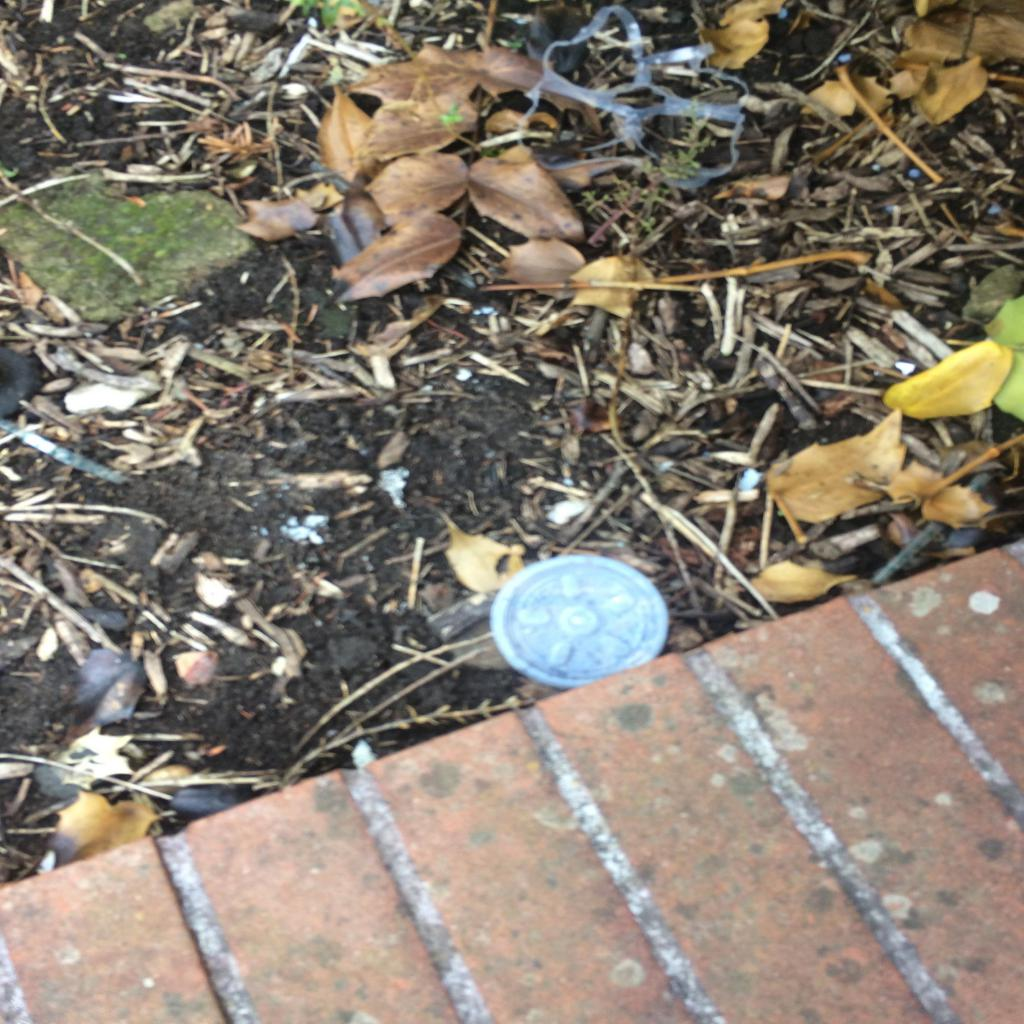Plastic lid: (491, 556, 669, 687)
Six pack rings: (518, 4, 750, 188)
